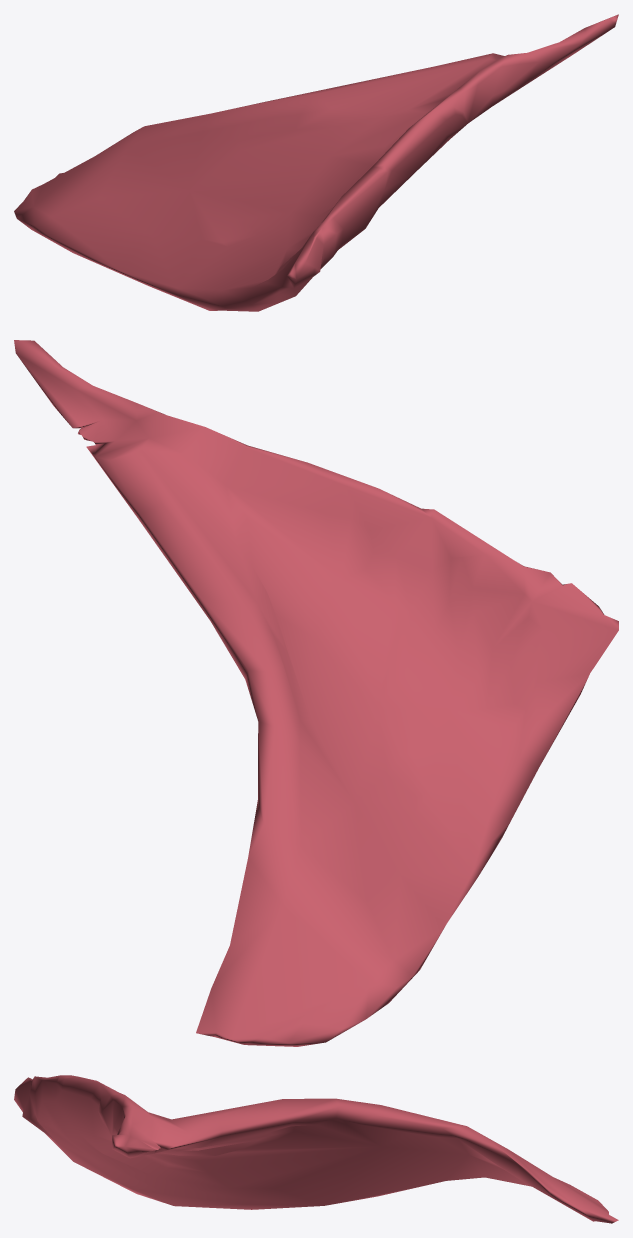
The picture shows the model from 3 angles, top to bottom: view 1: azimuth 30°, elevation 25°; view 2: azimuth 150°, elevation 25°; view 3: azimuth 270°, elevation 25°; orthographic projection. The views are drawn at different scales.
Parts seen in each view (by area): view 1: 左侧提上唇肌; view 2: 左侧提上唇肌; view 3: 左侧提上唇肌.
Boxes of the visible parts, x1,y1,x2,y2 form: 左侧提上唇肌: (14, 14, 618, 311); 左侧提上唇肌: (14, 340, 618, 1046); 左侧提上唇肌: (14, 1075, 618, 1223).
Bounding box in the file's own units: 0.0398 × 0.0219 × 0.0426.
